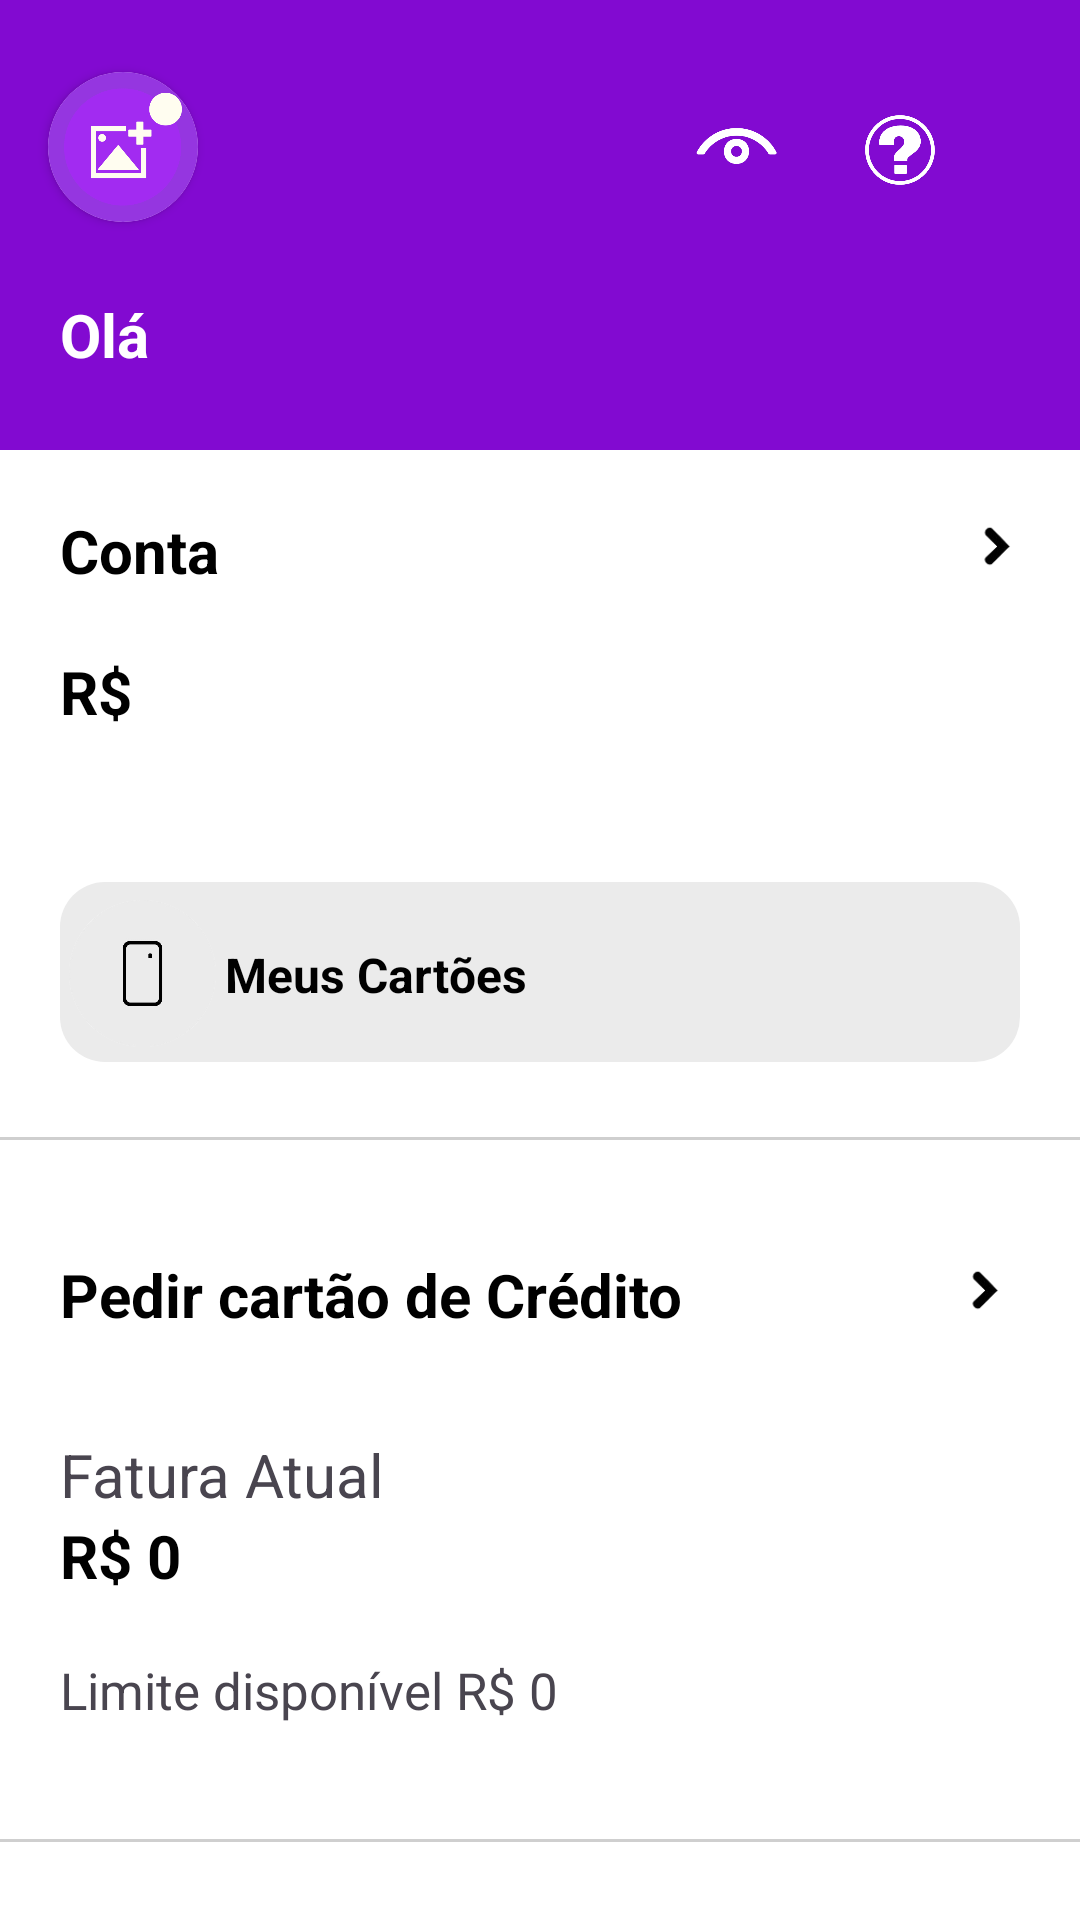

Icon click points for this 1080x1920 phone screenshot, format (x=x, y=y):
ocultasaldo: (x=736, y=146)
secondseta: (x=997, y=546), (x=985, y=1290)
sobree: (x=900, y=150)
